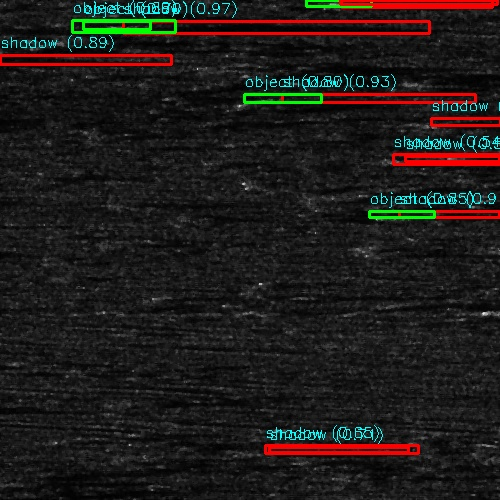rock: (83, 21, 146, 32), (256, 92, 319, 103), (321, 0, 374, 8), (386, 214, 417, 217), (7, 479, 38, 482), (402, 157, 433, 160), (489, 438, 500, 445)
shadow: (115, 21, 426, 32), (288, 92, 500, 103), (0, 400, 120, 413), (348, 0, 500, 8), (0, 60, 201, 63), (0, 51, 37, 60), (402, 214, 500, 217), (23, 479, 119, 482), (418, 157, 500, 160)
